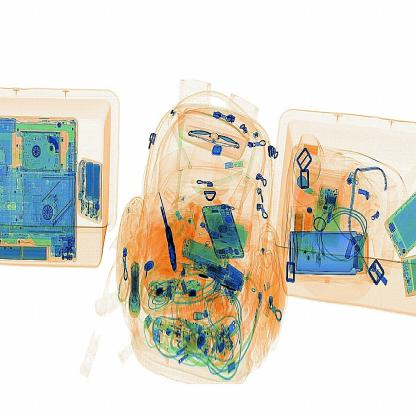wrench: (148, 191, 188, 269)
